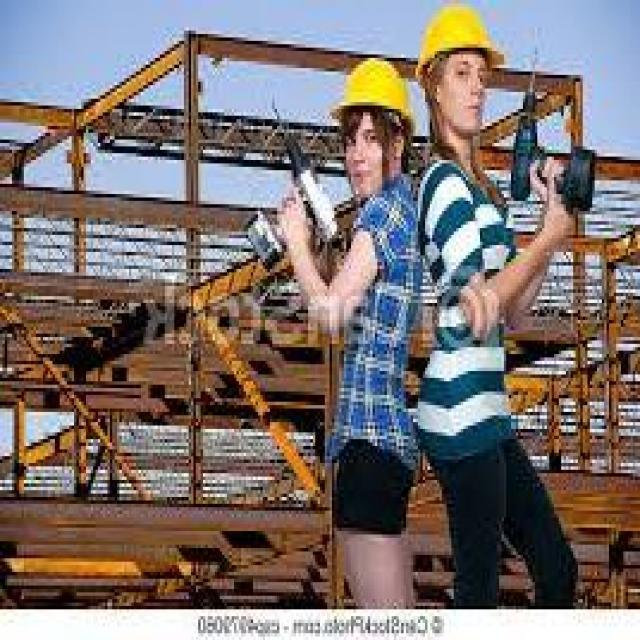safety_helmet: (410, 0, 505, 78), (329, 50, 417, 129)
